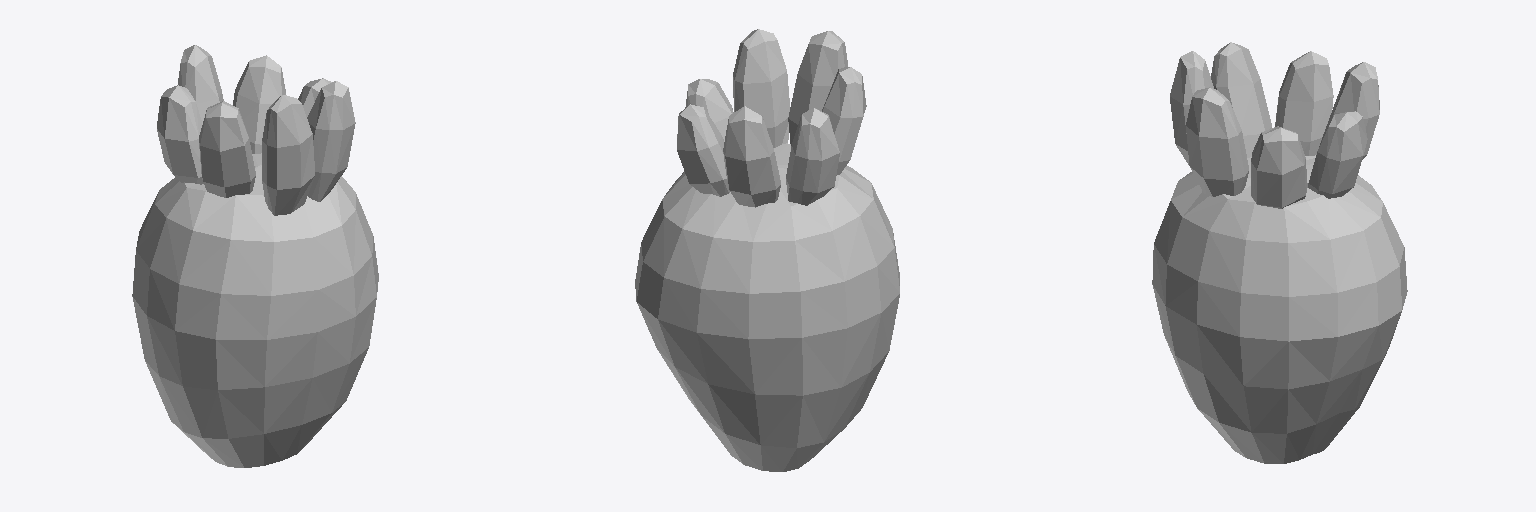
The model's file is Sponge_A_03_LOD1.obj.
3 views of the same model, side by side, from view 1: azimuth 30°, elevation 25°; view 2: azimuth 150°, elevation 25°; view 3: azimuth 270°, elevation 25° (orthographic).
Parts seen in each view (by area): view 1: Sponge_A_03_LOD1_Cylinder.382; view 2: Sponge_A_03_LOD1_Cylinder.382; view 3: Sponge_A_03_LOD1_Cylinder.382.
Boxes of the visible parts, <box> form: Sponge_A_03_LOD1_Cylinder.382: <box>132,45,378,467</box>; Sponge_A_03_LOD1_Cylinder.382: <box>635,29,899,471</box>; Sponge_A_03_LOD1_Cylinder.382: <box>1152,42,1407,463</box>.
Size of the model in its own units: 2.61 by 4.42 by 2.59.